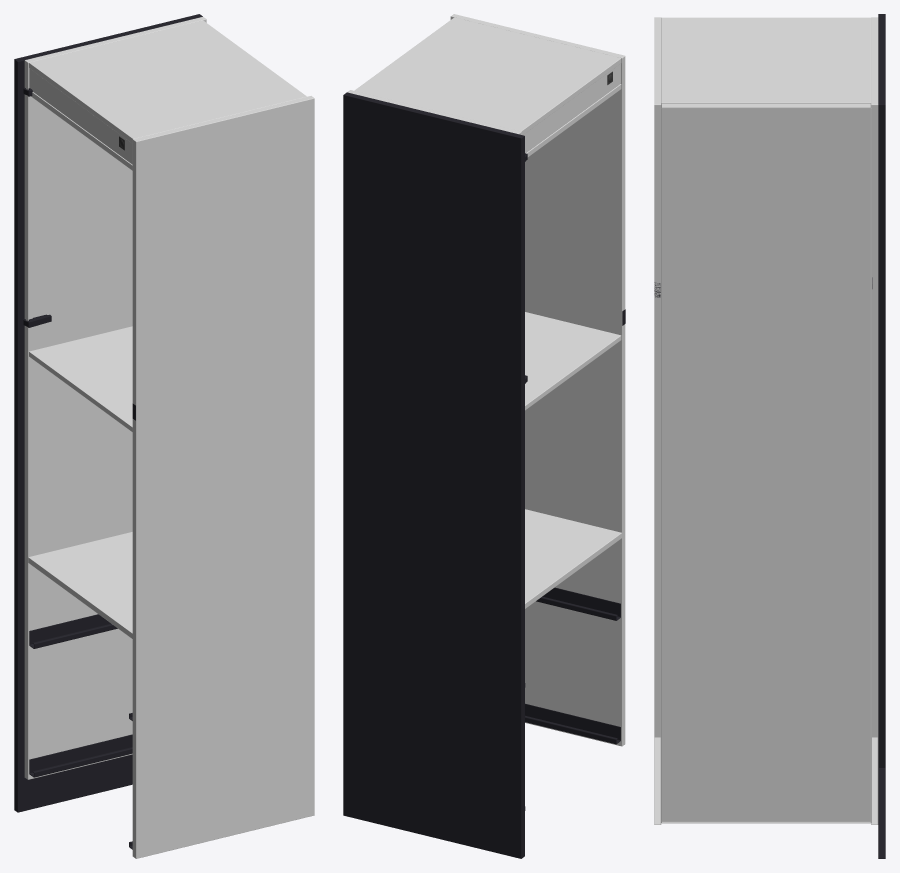
File: SM_Kitchen_01_Base.dae
3 views of the same model, side by side, from view 1: azimuth 30°, elevation 25°; view 2: azimuth 150°, elevation 25°; view 3: azimuth 270°, elevation 25° (orthographic). The views are drawn at different scales.
Parts seen in each view (by area): view 1: SM_Kitchen_01_Base; view 2: SM_Kitchen_01_Base; view 3: SM_Kitchen_01_Base.
Part boxes in pixels (x1,y1,x2,y2): SM_Kitchen_01_Base: (14, 14, 314, 858); SM_Kitchen_01_Base: (343, 14, 625, 858); SM_Kitchen_01_Base: (654, 14, 885, 858).
Size of the model in its own units: 0.5759 by 0.6199 by 2.23.
